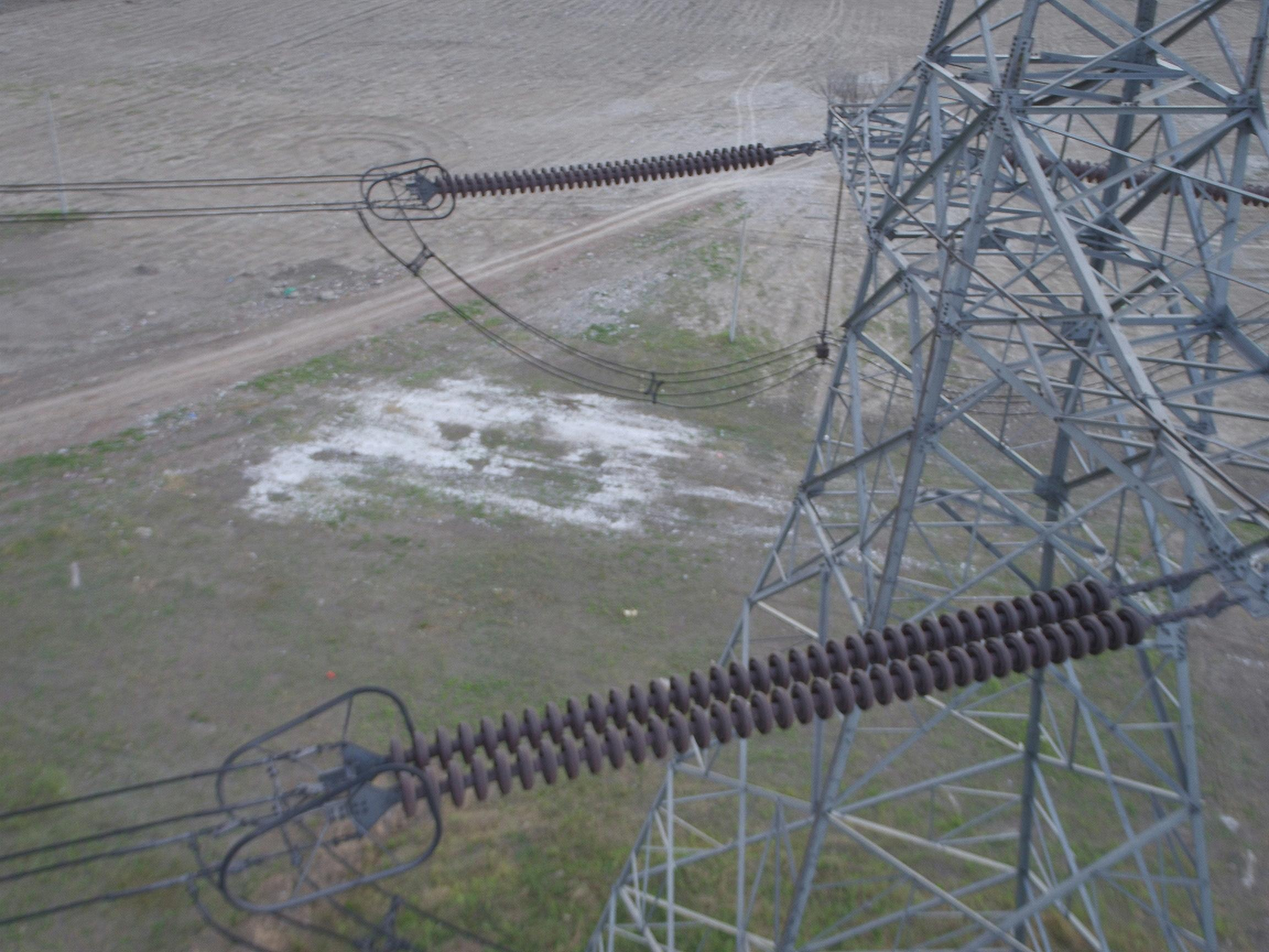insulator: (385, 576, 1149, 821), (431, 139, 777, 202), (1033, 147, 1269, 209)
